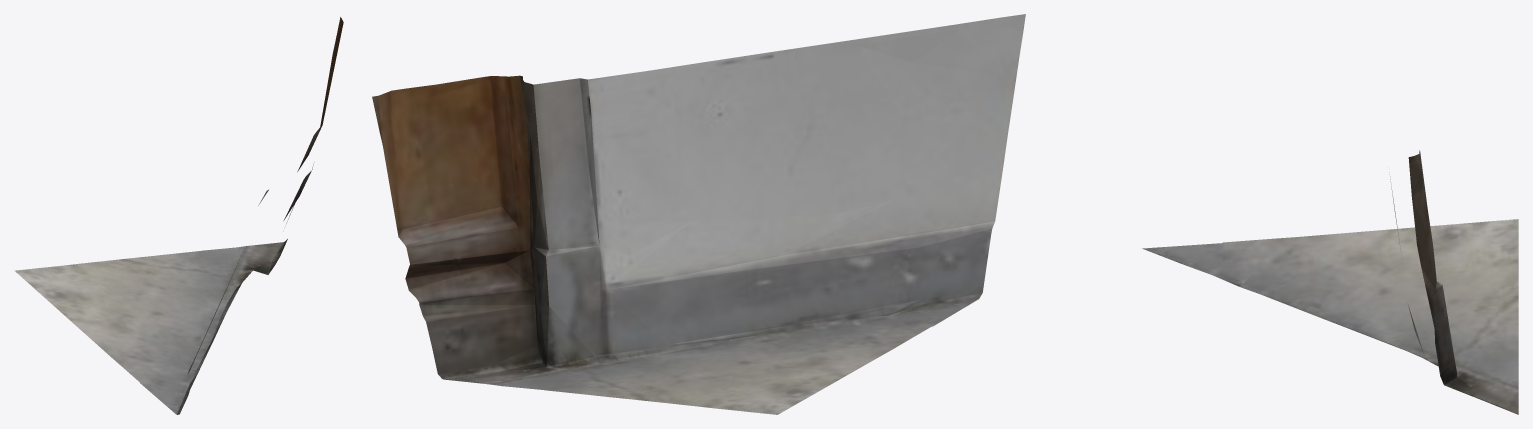
3 renders of one model, left to right at view 1: azimuth 30°, elevation 25°; view 2: azimuth 150°, elevation 25°; view 3: azimuth 270°, elevation 25°, orthographic. The views are drawn at different scales.
Size of the model in its own units: 1.86 by 1.16 by 1.97.
Materials: 1 (1 with a texture image).
